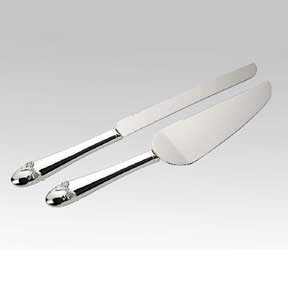knief: (34, 58, 271, 211)
